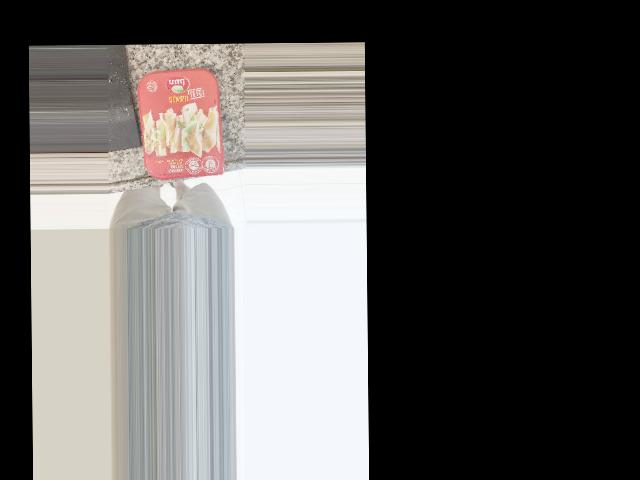cheese: (126, 91, 215, 201)
